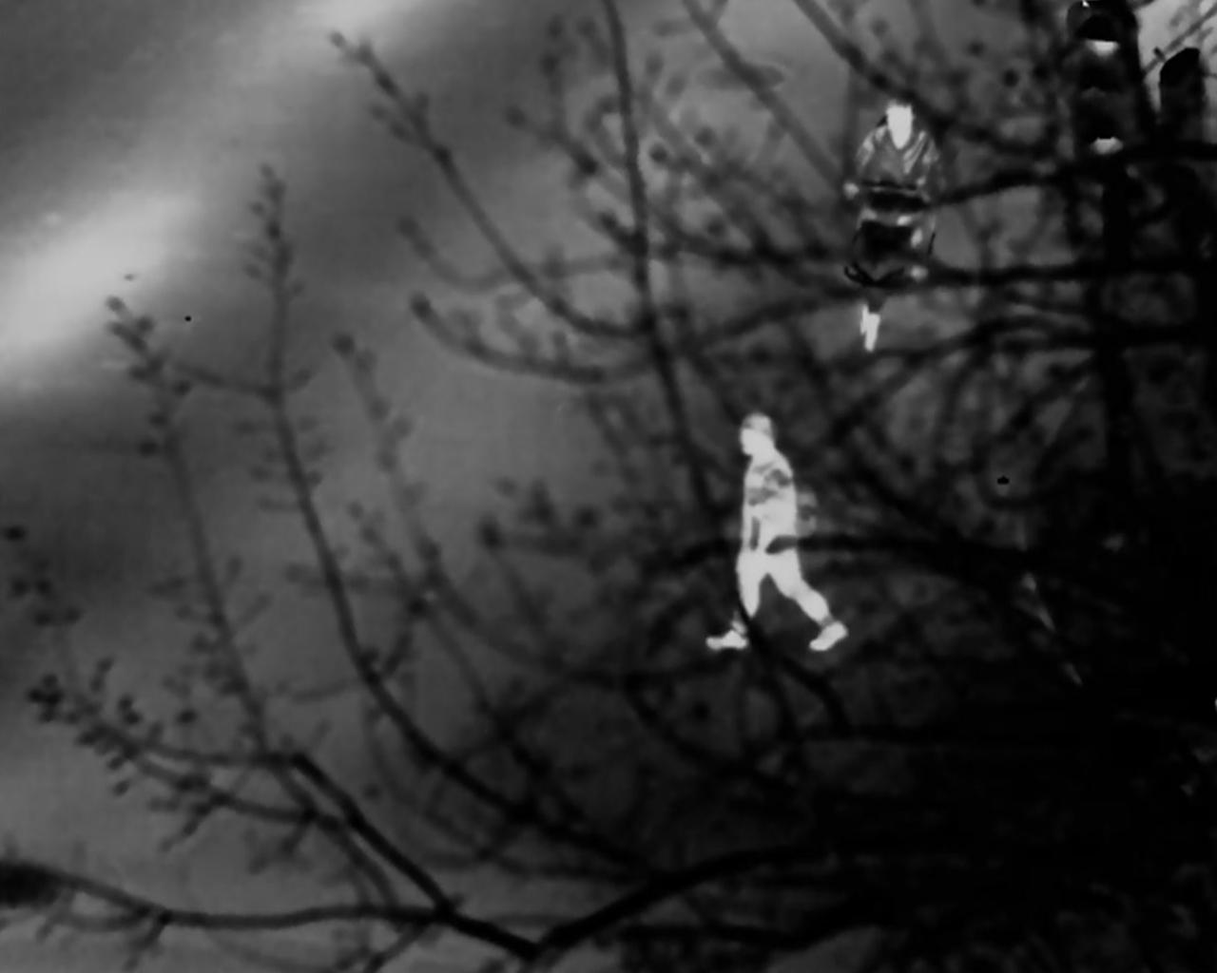person: (707, 412, 849, 655), (855, 103, 930, 343)
